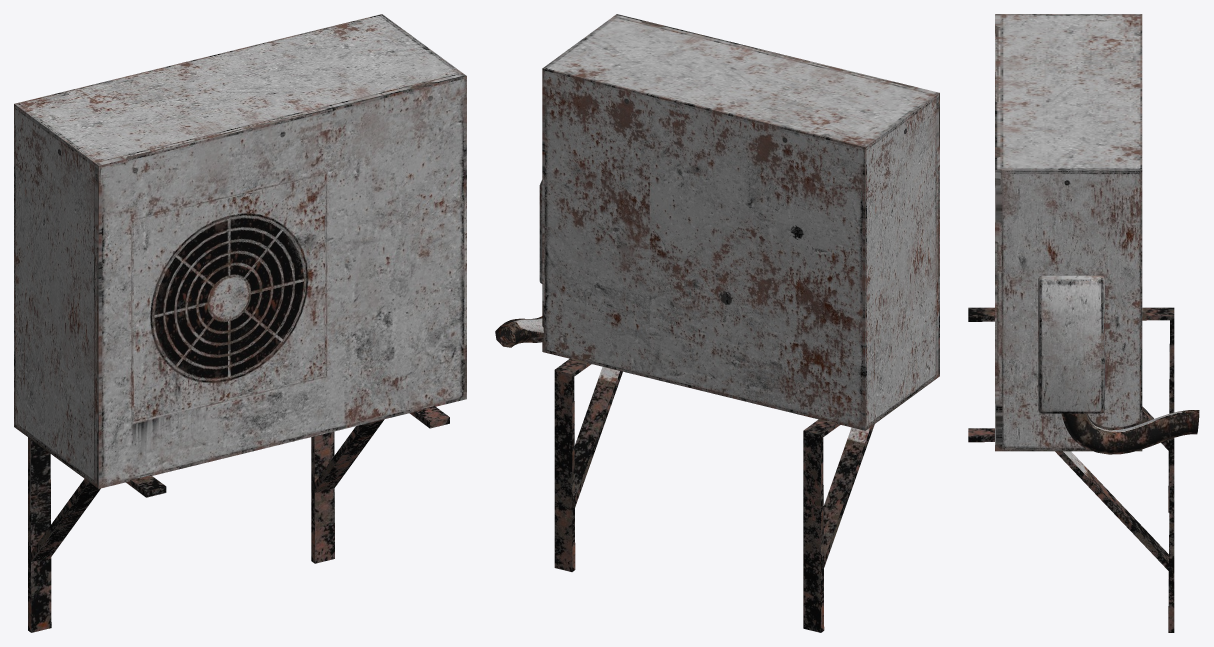
File: aircon_condenser.gltf
3 renders of one model, left to right at view 1: azimuth 30°, elevation 25°; view 2: azimuth 150°, elevation 25°; view 3: azimuth 270°, elevation 25°, orthographic. The views are drawn at different scales.
Visible parts, largest first — view 1: aircon_condenser; view 2: aircon_condenser; view 3: aircon_condenser.
Boxes of the visible parts, x1=… form: aircon_condenser: x1=14, y1=14, x2=466, y2=632; aircon_condenser: x1=495, y1=14, x2=939, y2=632; aircon_condenser: x1=968, y1=14, x2=1199, y2=632.
Bounding box in the file's own units: 0.6409 × 0.85 × 0.3735.
1 material, 1 textured.
